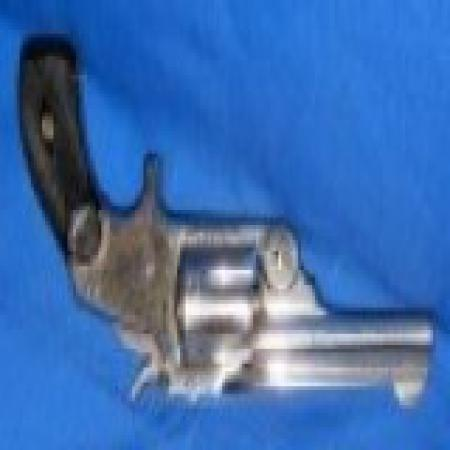Pistol: (25, 34, 439, 420)
